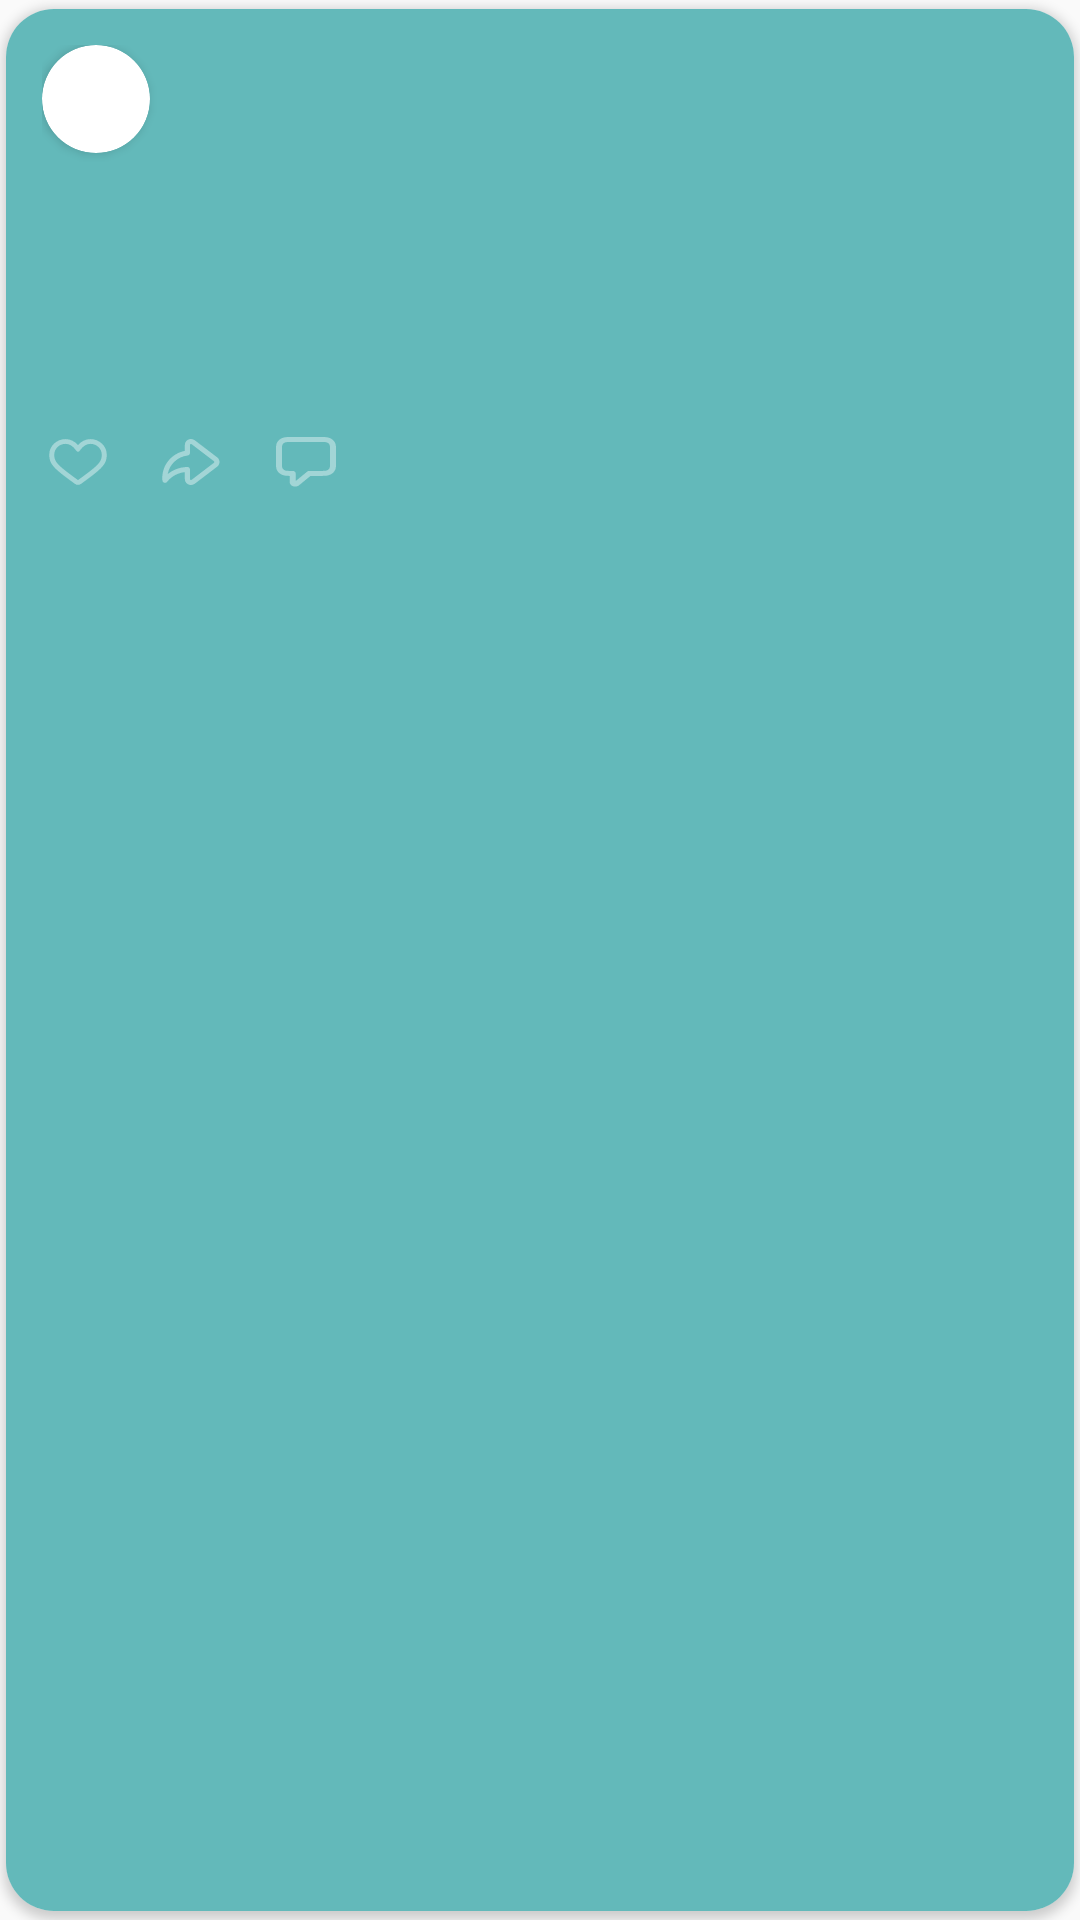

Screen size 1080 × 1920. Icon name, then its box in pixels as [x1=x1, y1=y1, x2=x2, y2=y2]:
comment: [x1=276, y1=437, x2=336, y2=487]
like: [x1=49, y1=439, x2=107, y2=485]
repost: [x1=162, y1=439, x2=220, y2=485]
